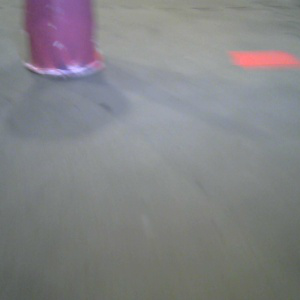right: (20, 1, 104, 78)
